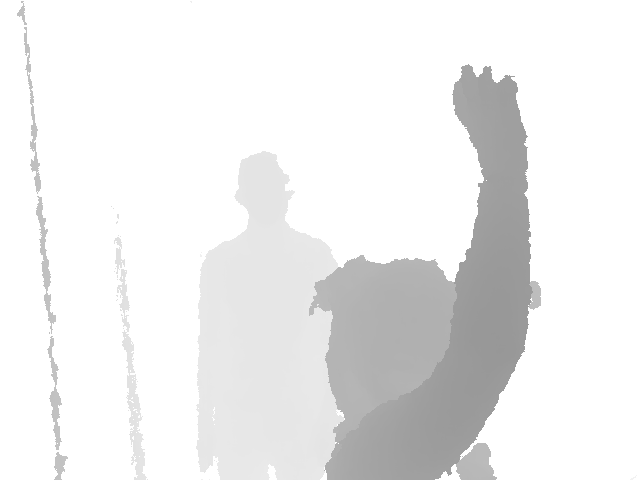hand: (451, 63, 529, 145)
head: (309, 254, 461, 414), (232, 151, 296, 225)
person: (308, 62, 545, 480), (195, 150, 342, 479)
